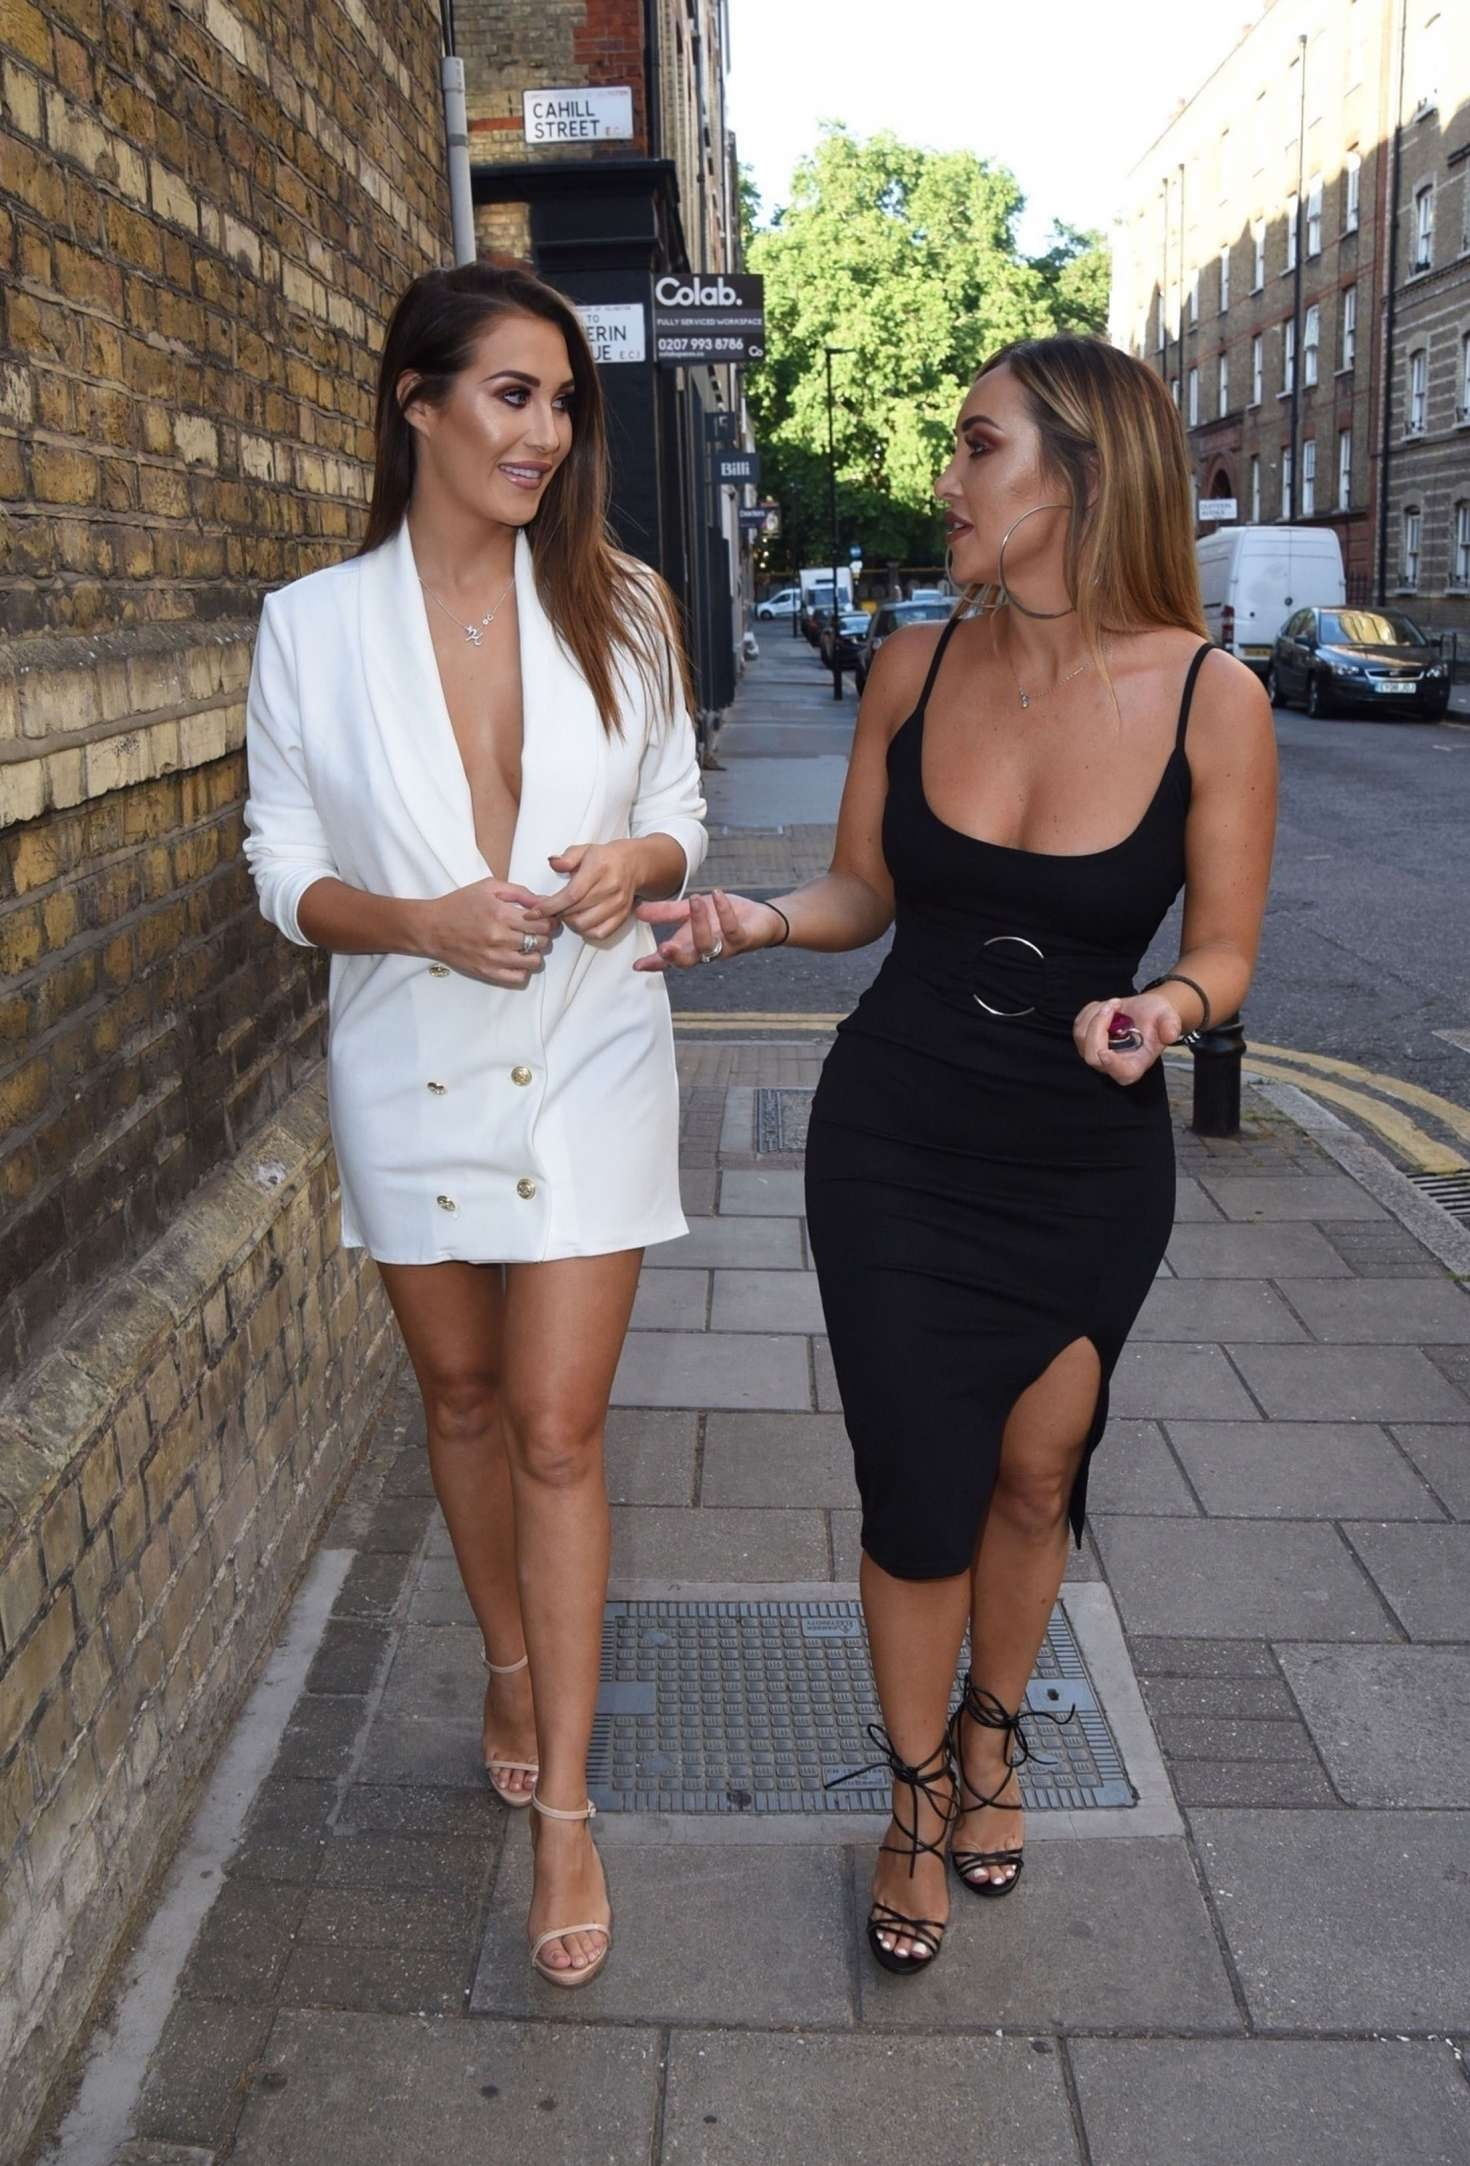Person: (622, 322, 1325, 2025), (204, 236, 736, 2011)
